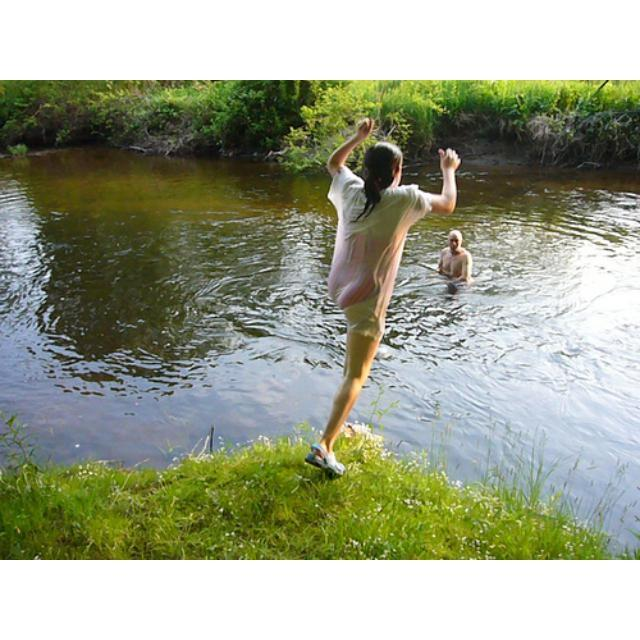human: (298, 126, 461, 471), (439, 231, 474, 287)
